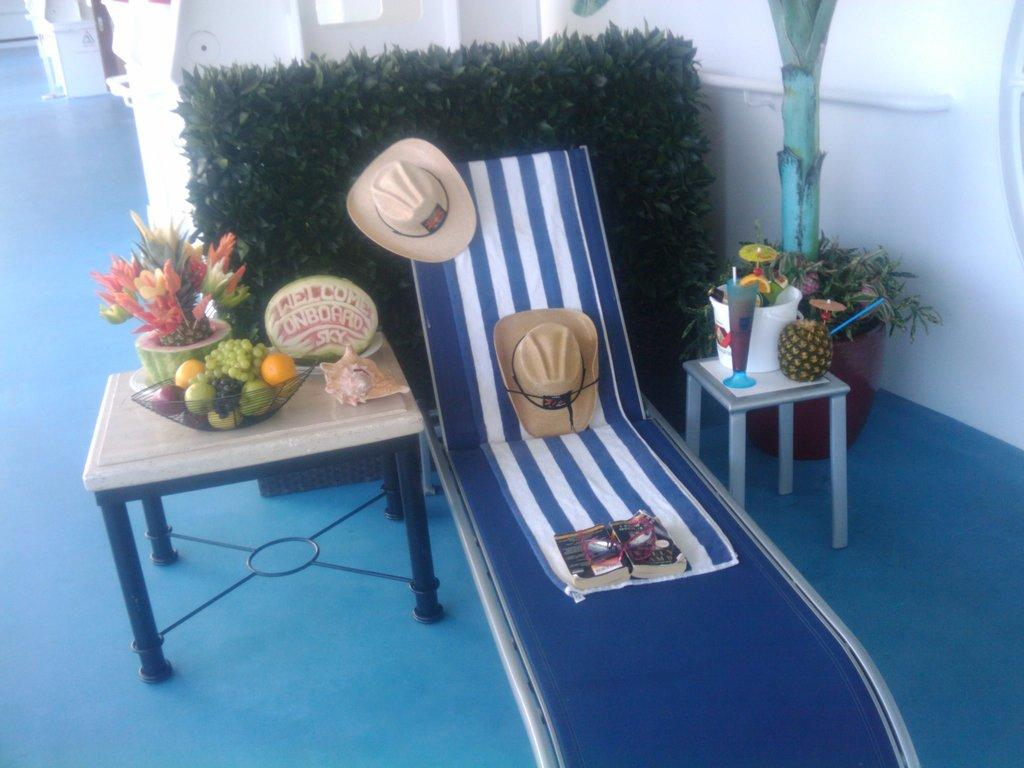Hat: (344, 136, 476, 264), (493, 306, 599, 435)
